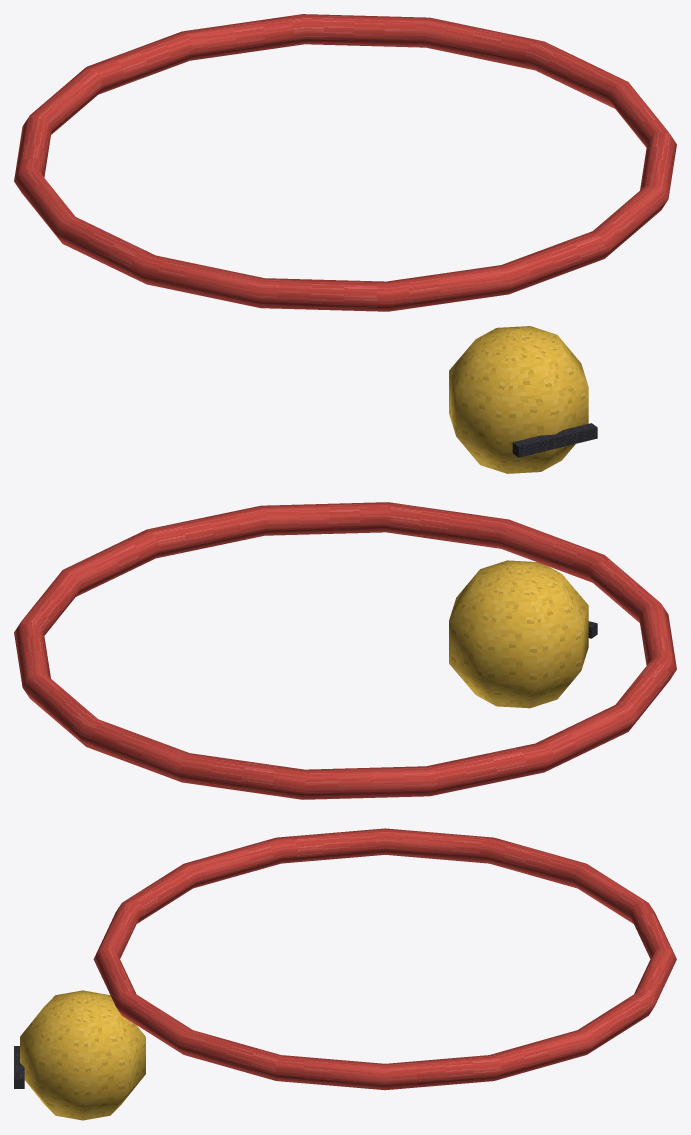
Rendered from collar_con_cascabel.glb.
The picture shows the model from 3 angles, top to bottom: view 1: azimuth 30°, elevation 25°; view 2: azimuth 150°, elevation 25°; view 3: azimuth 270°, elevation 25°; orthographic projection. The views are drawn at different scales.
Parts seen in each view (by area): view 1: _MeshInstance3D_249, _MeshInstance3D_250, _MeshInstance3D_251; view 2: _MeshInstance3D_249, _MeshInstance3D_250; view 3: _MeshInstance3D_249, _MeshInstance3D_250.
Part boxes in pixels (x1=…): _MeshInstance3D_249: x1=14, y1=14, x2=676, y2=311; _MeshInstance3D_250: x1=449, y1=326, x2=588, y2=473; _MeshInstance3D_251: x1=512, y1=423, x2=597, y2=457; _MeshInstance3D_249: x1=14, y1=502, x2=676, y2=799; _MeshInstance3D_250: x1=449, y1=560, x2=588, y2=708; _MeshInstance3D_249: x1=93, y1=828, x2=676, y2=1090; _MeshInstance3D_250: x1=20, y1=990, x2=145, y2=1120.
Size of the model in its own units: 0.22 by 0.0693 by 0.25.
3 materials, 3 textured.
